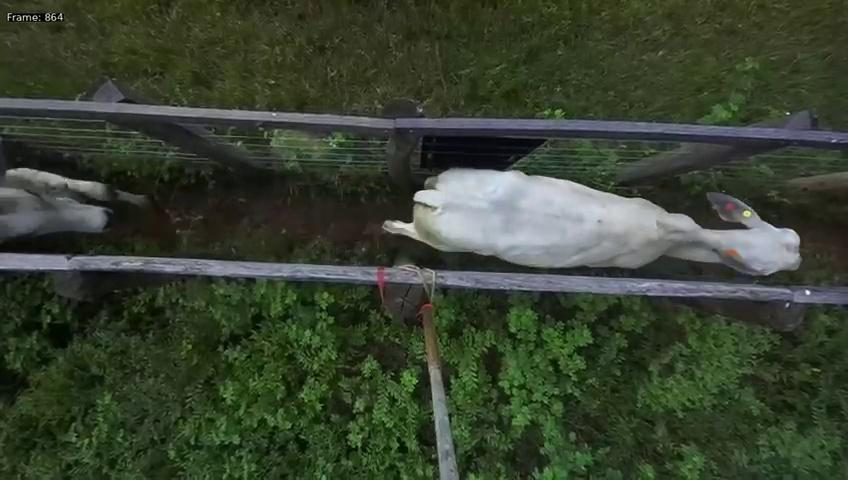cattle: (382, 126, 803, 279)
